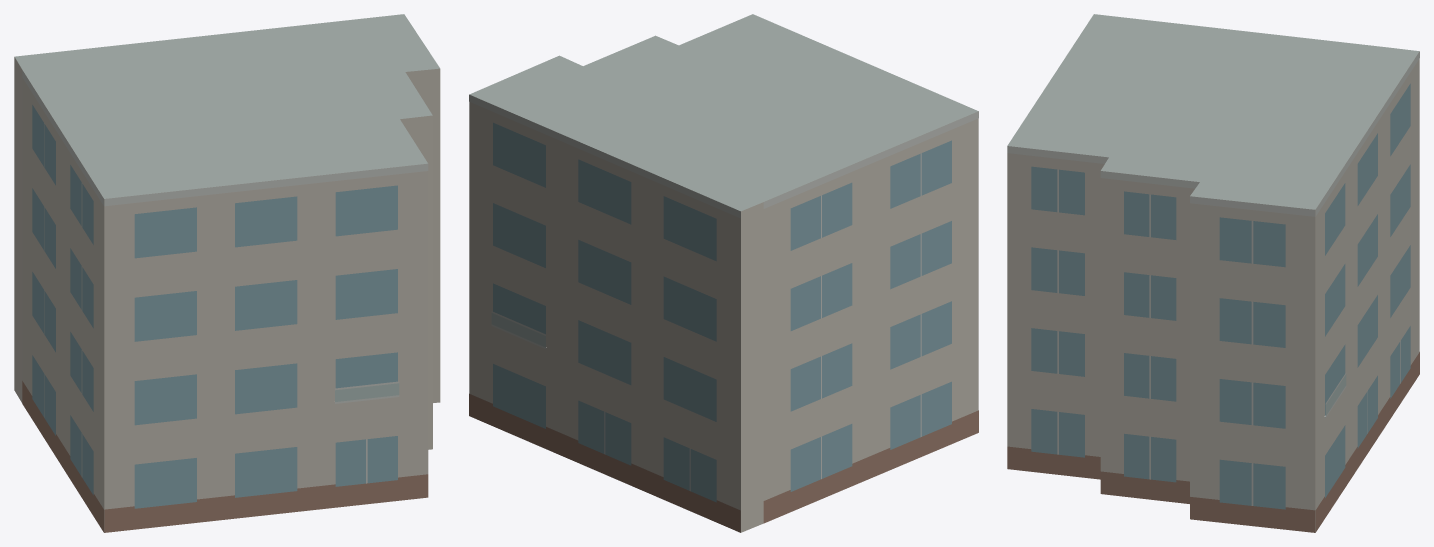
File: survey-upis-32945621.glb
The picture shows the model from 3 angles, left to right: view 1: azimuth 30°, elevation 25°; view 2: azimuth 150°, elevation 25°; view 3: azimuth 270°, elevation 25°; orthographic projection. The views are drawn at different scales.
Visible parts, largest first — view 1: survey-upis-32945621.tmp; view 2: survey-upis-32945621.tmp; view 3: survey-upis-32945621.tmp.
Part boxes in pixels (x1=…): survey-upis-32945621.tmp: x1=14, y1=14, x2=440, y2=532; survey-upis-32945621.tmp: x1=469, y1=14, x2=978, y2=532; survey-upis-32945621.tmp: x1=1007, y1=14, x2=1419, y2=532.
Bounding box in the file's own units: 14.42 × 11.09 × 12.84.
